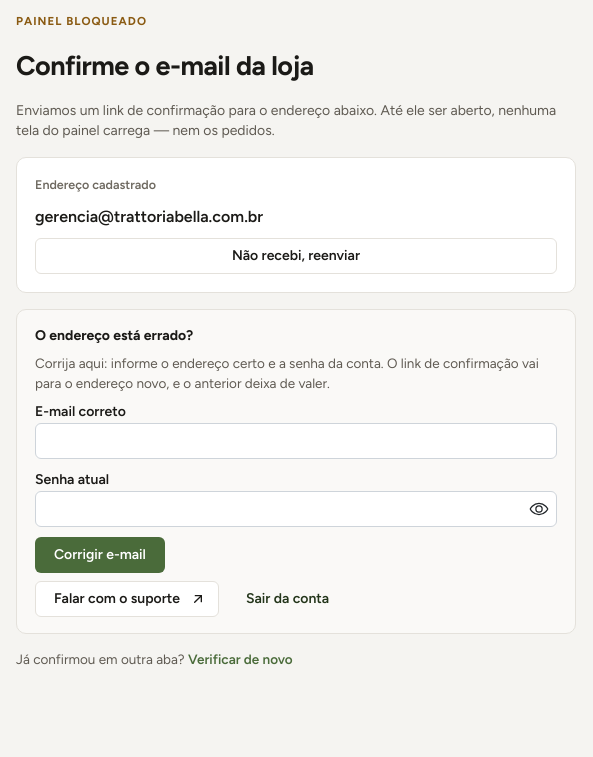
Test case: EmailBlockedPage › 429 trava o botão com a contagem do Retry-After
Click the button "Não recebi, reenviar" at x=296, y=256, box [35, 238, 557, 274]
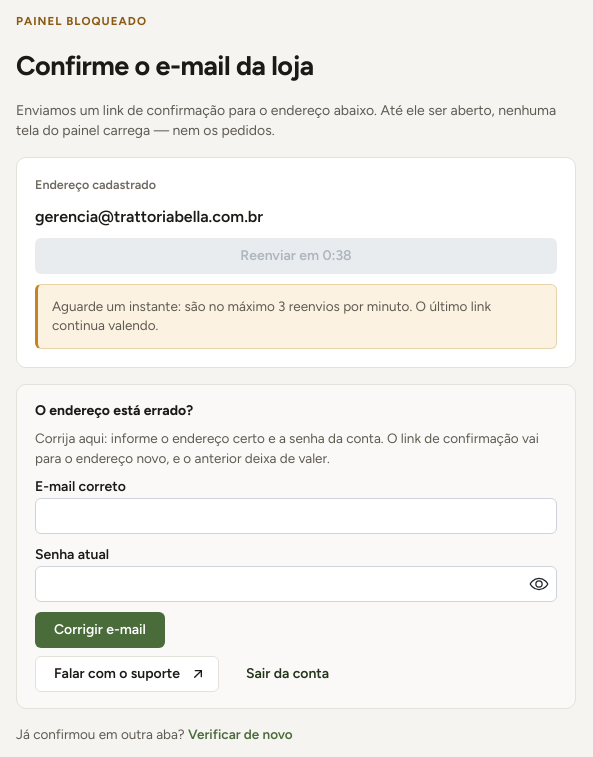
Check: the button "Reenviar em 0:38" is disabled, box [35, 238, 557, 274]
Check: the text "Aguarde um instante: são no máximo 3 reenvios por minuto. O último link continua valendo." is shown, box [52, 298, 491, 333]
